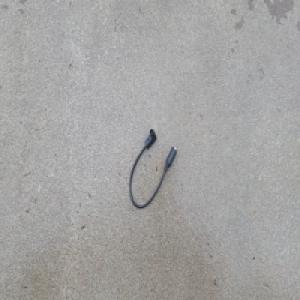Wire: (128, 126, 177, 209)
